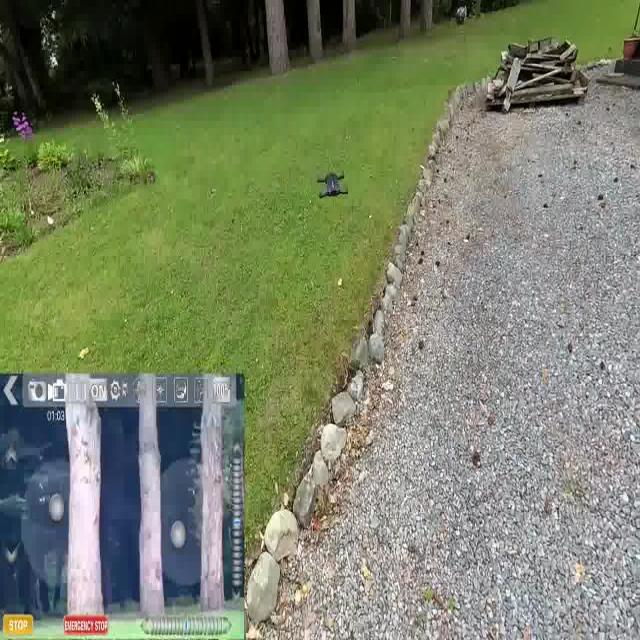drone: (313, 167, 354, 208)
